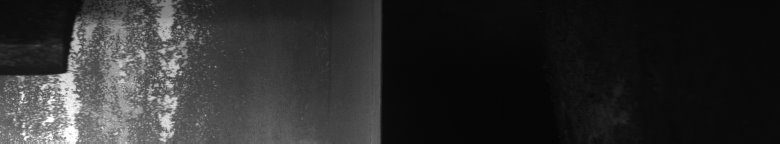kb: (60, 0, 217, 144)
